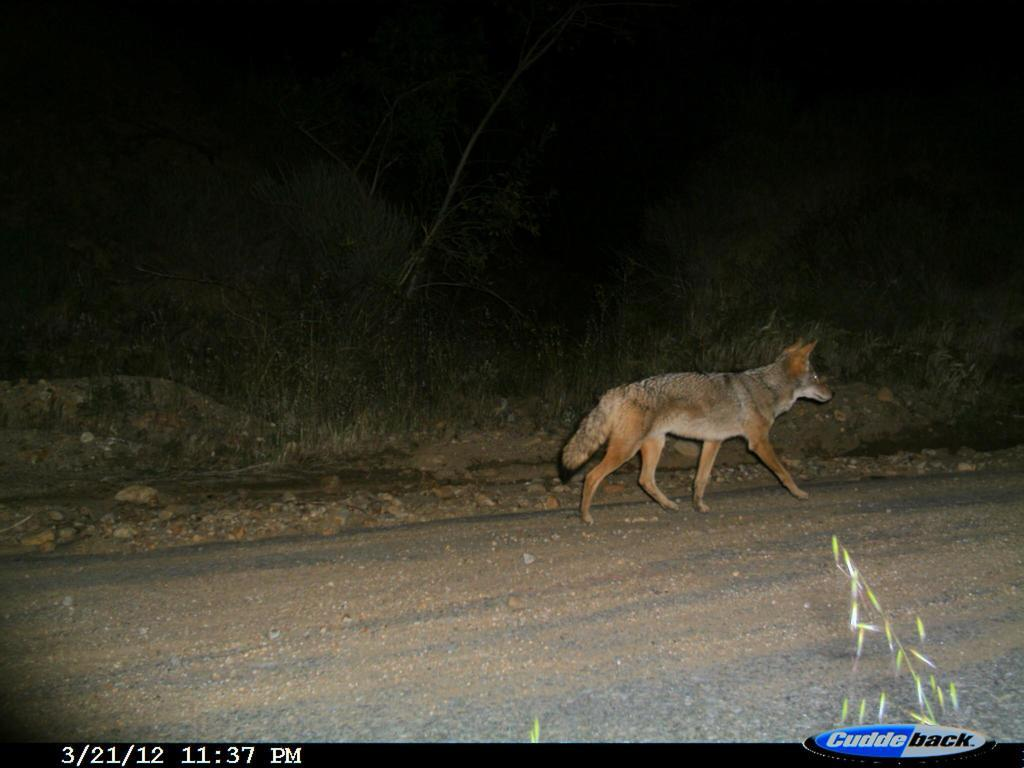coyote: (545, 326, 841, 532)
